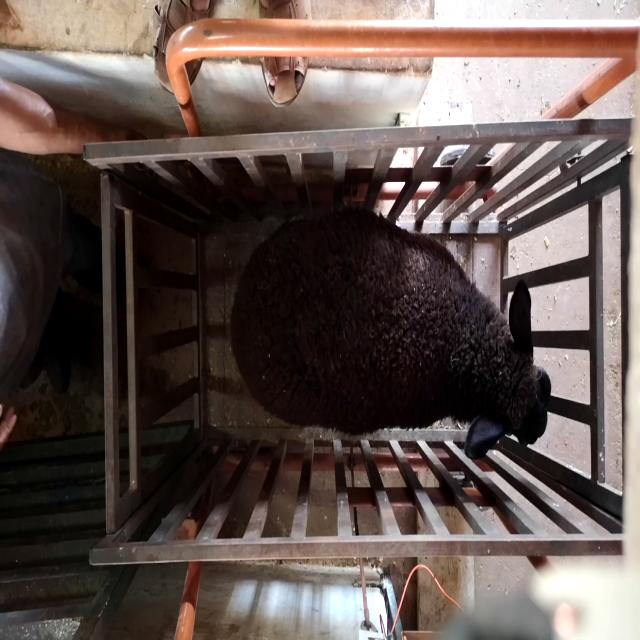sheep: (229, 206, 551, 458)
